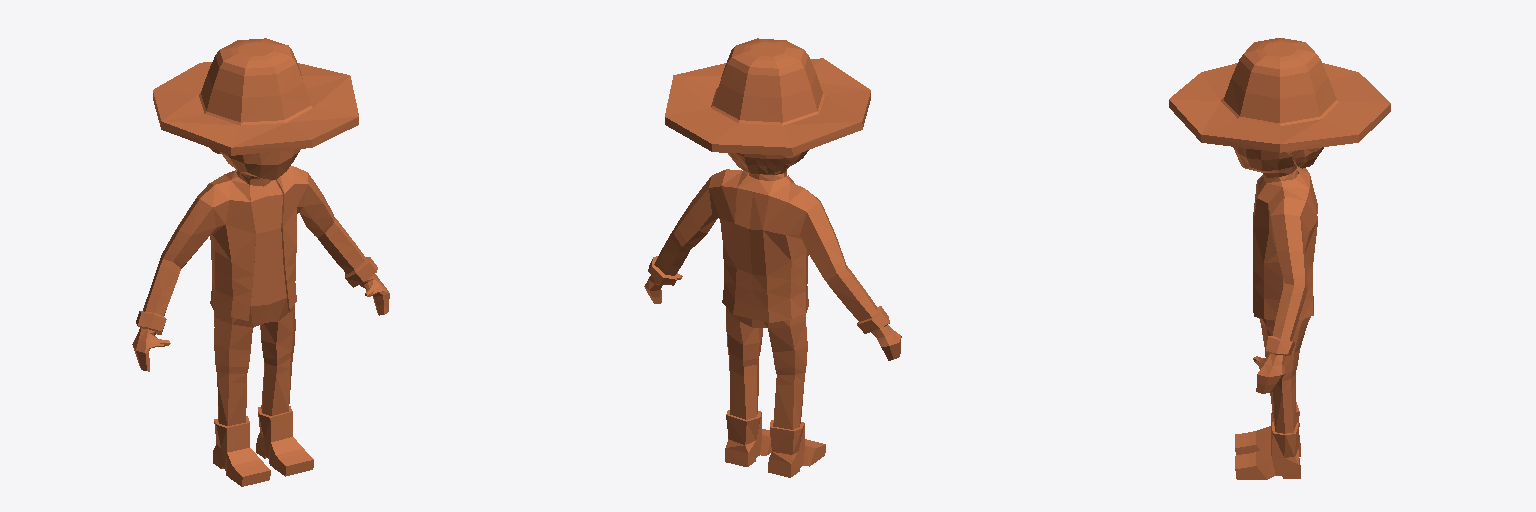
Rendered from dave.obj.
3 renders of one model, left to right at view 1: azimuth 30°, elevation 25°; view 2: azimuth 150°, elevation 25°; view 3: azimuth 270°, elevation 25°, orthographic.
Parts seen in each view (by area): view 1: Character_Cube; view 2: Character_Cube; view 3: Character_Cube.
Part boxes in pixels (x1,y1,x2,y2): Character_Cube: (132, 38, 389, 486); Character_Cube: (644, 38, 901, 477); Character_Cube: (1169, 38, 1390, 479).
Size of the model in its own units: 0.3064 by 0.4812 by 0.2351.